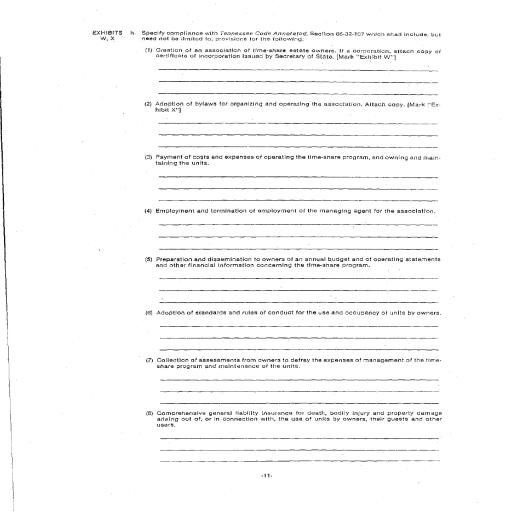free_text: (156, 409, 443, 428), (156, 46, 446, 63), (154, 254, 444, 269), (153, 153, 439, 168), (154, 100, 444, 114), (156, 356, 440, 368), (154, 308, 440, 319), (154, 206, 437, 216)
